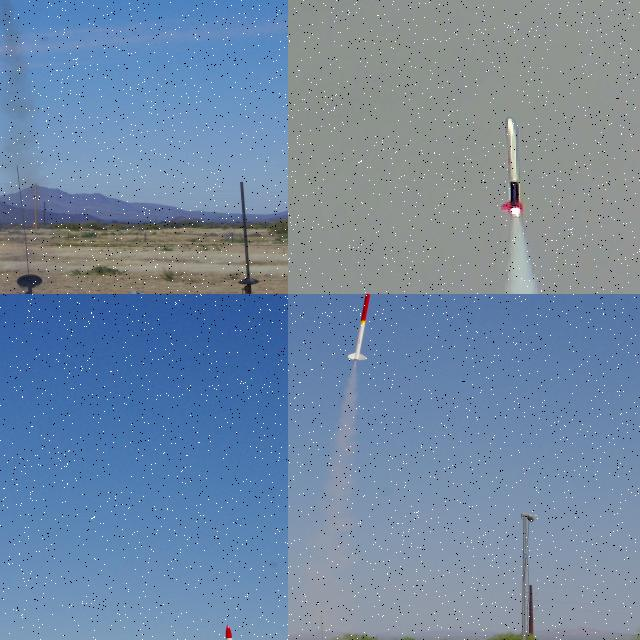Rocket: (499, 117, 525, 215), (344, 294, 371, 360), (224, 624, 242, 640)
